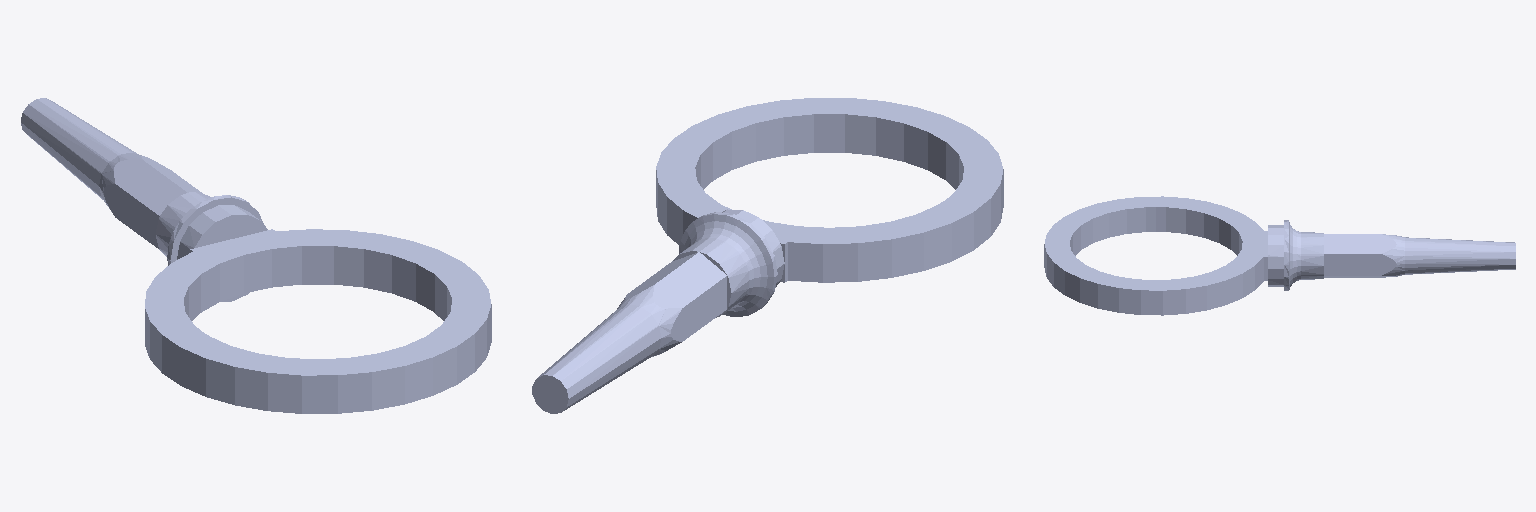
robot.urdf — Magnifier.SLDPRT:
<?xml version="1.0" encoding="utf-8"?>
<!-- This URDF was automatically created by SolidWorks to URDF Exporter! Originally created by [author] ([email redacted]) 
     Commit Version: 1.5.1-0-g916b5db  Build Version: 1.5.7152.31018
     For more information, please see http://wiki.ros.org/sw_urdf_exporter -->
<robot
  name="Magnifier.SLDPRT">
  <link
    name="Magnifier_urdf">
    <inertial>
      <origin
        xyz="-8.9277E-19 -0.12432 7.7429830953599E-18"
        rpy="0 0 0" />
      <mass
        value="0.077828" />
      <inertia
        ixx="0.00025446"
        ixy="4.7706E-22"
        ixz="-2.2168E-23"
        iyy="4.8788E-05"
        iyz="1.45857536582906E-20"
        izz="0.00029997" />
    </inertial>
    <visual>
      <origin
        xyz="0 0 0"
        rpy="1.5707963267949 0 0" />
      <geometry>
        <mesh
          filename="package://Magnifier_urdf/meshes/Magnifier_urdf.STL" />
      </geometry>
      <material
        name="">
        <color
          rgba="0.79216 0.81961 0.93333 1" />
        <texture
          filename="package://Magnifier_urdf/textures/" />
      </material>
    </visual>
    <collision>
      <origin
        xyz="0 0 0"
        rpy="1.5707963267949 0 0" />
      <geometry>
        <mesh
          filename="package://Magnifier_urdf/meshes/Magnifier_urdf.STL" />
      </geometry>
    </collision>
  </link>
</robot>

--- Facts derived from the render (not from the file) ---
3 views of the same robot in one strip: view 1: azimuth 30°, elevation 25°; view 2: azimuth 150°, elevation 25°; view 3: azimuth 270°, elevation 25° (orthographic).
Model Magnifier.SLDPRT with 1 links and 0 joints (none), rooted at Magnifier_urdf, posed all joints at 0.
Visible links, largest first — view 1: Magnifier_urdf; view 2: Magnifier_urdf; view 3: Magnifier_urdf.
Link boxes in pixels (left/top/right/bottom): Magnifier_urdf: left=21, top=98, right=491, bottom=413; Magnifier_urdf: left=532, top=98, right=1003, bottom=413; Magnifier_urdf: left=1044, top=196, right=1515, bottom=315.
Size in the robot's own frame: 0.1035 by 0.2185 by 0.033 metres.
1 mesh visuals loaded from 1 distinct referenced files (1 binary STL).
